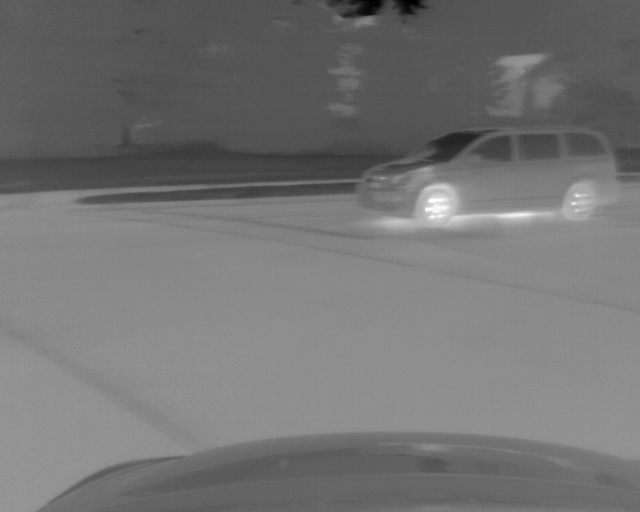car: (355, 124, 620, 227)
